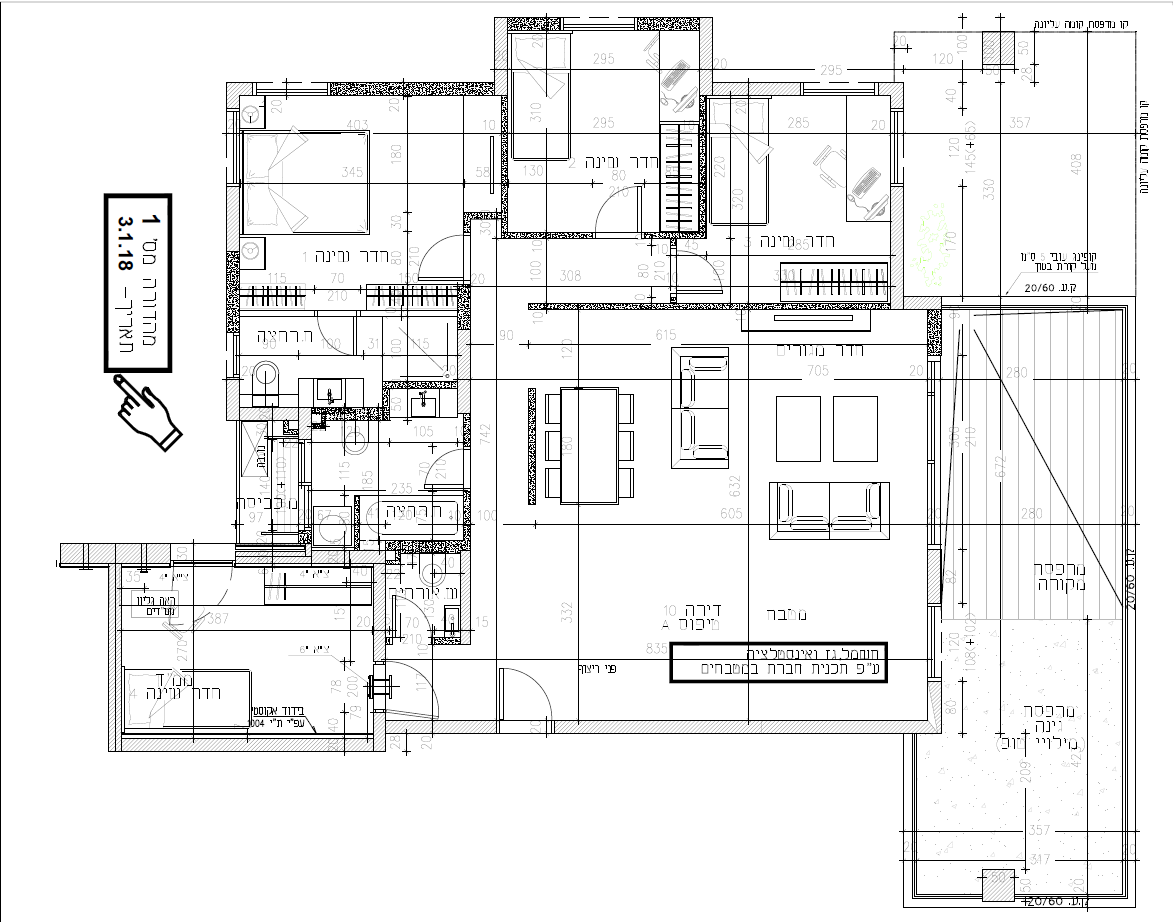door: (496, 663, 555, 720), (595, 185, 644, 234), (417, 233, 467, 278), (424, 449, 466, 488), (318, 315, 357, 356)
wall: (331, 82, 494, 95), (529, 389, 536, 504)
